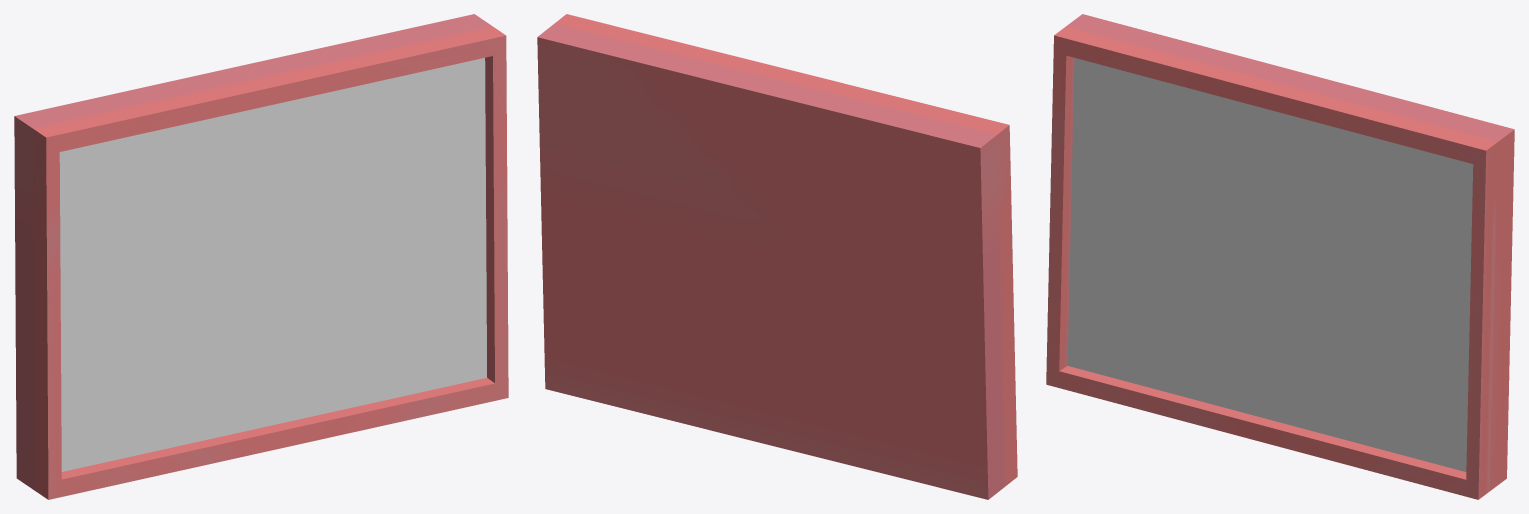
Rendered from picFrame02.fbx.
3 renders of one model, left to right at view 1: azimuth 30°, elevation 25°; view 2: azimuth 150°, elevation 25°; view 3: azimuth 330°, elevation 25°, orthographic. The views are drawn at different scales.
Visible parts, largest first — view 1: picFrame02.001; view 2: picFrame02.001; view 3: picFrame02.001.
Boxes of the visible parts, box(x1,y1,x2,y2) form: picFrame02.001: box(14, 14, 508, 499); picFrame02.001: box(537, 14, 1017, 499); picFrame02.001: box(1046, 14, 1514, 499).
Size of the model in its own units: 0.7197 by 0.5444 by 0.1159.
